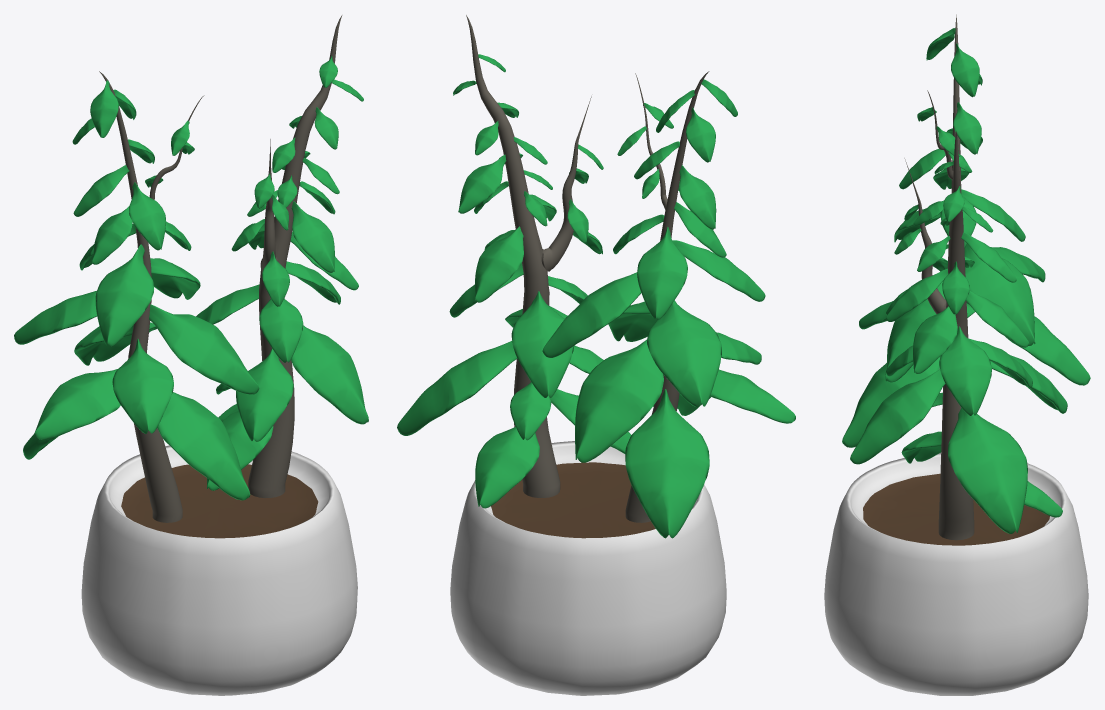
The model's file is Plant 1.fbx.
3 views of the same model, side by side, from view 1: azimuth 30°, elevation 25°; view 2: azimuth 150°, elevation 25°; view 3: azimuth 270°, elevation 25° (orthographic). The views are drawn at different scales.
Visible parts, largest first — view 1: pCylinder1, pCylinder6, pCube194, pCylinder5, pCube195, pCube214, pCube193, pCube204, pCube196, pCube217, pCube192, pCube227 (+13 smaller); view 2: pCylinder1, pCylinder6, pCube200, pCube191, pCube192, pCube212, pCube215, pCube216, pCube203, pCube206, pCylinder5, pCube221 (+10 smaller); view 3: pCylinder1, pCube212, pCylinder6, pCube214, pCube203, pCube219, pCube194, pCube231, pCube191, pCube195, pCube221, pCube218 (+18 smaller).
Boxes of the visible parts, x1=… form: pCylinder1: x1=81, y1=445, x2=357, y2=695; pCylinder6: x1=248, y1=15, x2=342, y2=497; pCube194: x1=157, y1=392, x2=250, y2=500; pCylinder5: x1=99, y1=71, x2=204, y2=522; pCube195: x1=149, y1=304, x2=259, y2=394; pCube214: x1=291, y1=325, x2=368, y2=424; pCube193: x1=33, y1=369, x2=120, y2=439; pCube204: x1=95, y1=244, x2=153, y2=346; pCube196: x1=112, y1=339, x2=173, y2=433; pCube217: x1=236, y1=348, x2=293, y2=441; pCube192: x1=14, y1=291, x2=96, y2=344; pCube227: x1=259, y1=298, x2=303, y2=362; pCylinder1: x1=450, y1=441, x2=726, y2=695; pCylinder6: x1=466, y1=15, x2=591, y2=497; pCube200: x1=625, y1=389, x2=709, y2=538; pCube191: x1=575, y1=339, x2=663, y2=462; pCube192: x1=647, y1=300, x2=721, y2=407; pCube212: x1=397, y1=341, x2=517, y2=435; pCube215: x1=511, y1=291, x2=574, y2=397; pCube216: x1=475, y1=427, x2=539, y2=508; pCube203: x1=542, y1=272, x2=641, y2=357; pCube206: x1=637, y1=227, x2=687, y2=319; pCylinder5: x1=625, y1=71, x2=709, y2=522; pCube221: x1=475, y1=226, x2=523, y2=302; pCylinder1: x1=824, y1=452, x2=1088, y2=695; pCube212: x1=948, y1=408, x2=1027, y2=533; pCylinder6: x1=904, y1=131, x2=974, y2=540; pCube214: x1=850, y1=369, x2=945, y2=464; pCube203: x1=964, y1=244, x2=1035, y2=345; pCube219: x1=939, y1=326, x2=991, y2=415; pCube194: x1=842, y1=356, x2=940, y2=447; pCube231: x1=913, y1=306, x2=957, y2=373; pCube191: x1=966, y1=302, x2=1090, y2=385; pCube195: x1=885, y1=281, x2=945, y2=382; pCube221: x1=966, y1=291, x2=1029, y2=347; pCube218: x1=886, y1=268, x2=948, y2=321.
Bounding box in the file's own units: 2.24 × 3.71 × 1.52.
